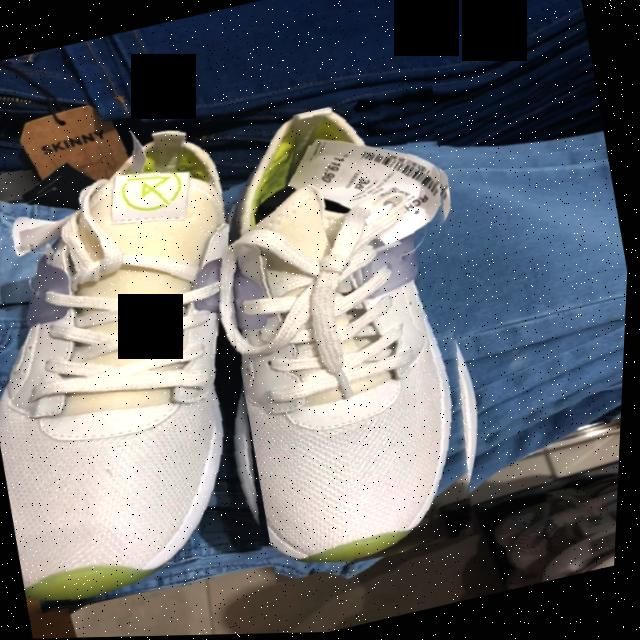shoe: (0, 134, 233, 608), (224, 111, 462, 565)
